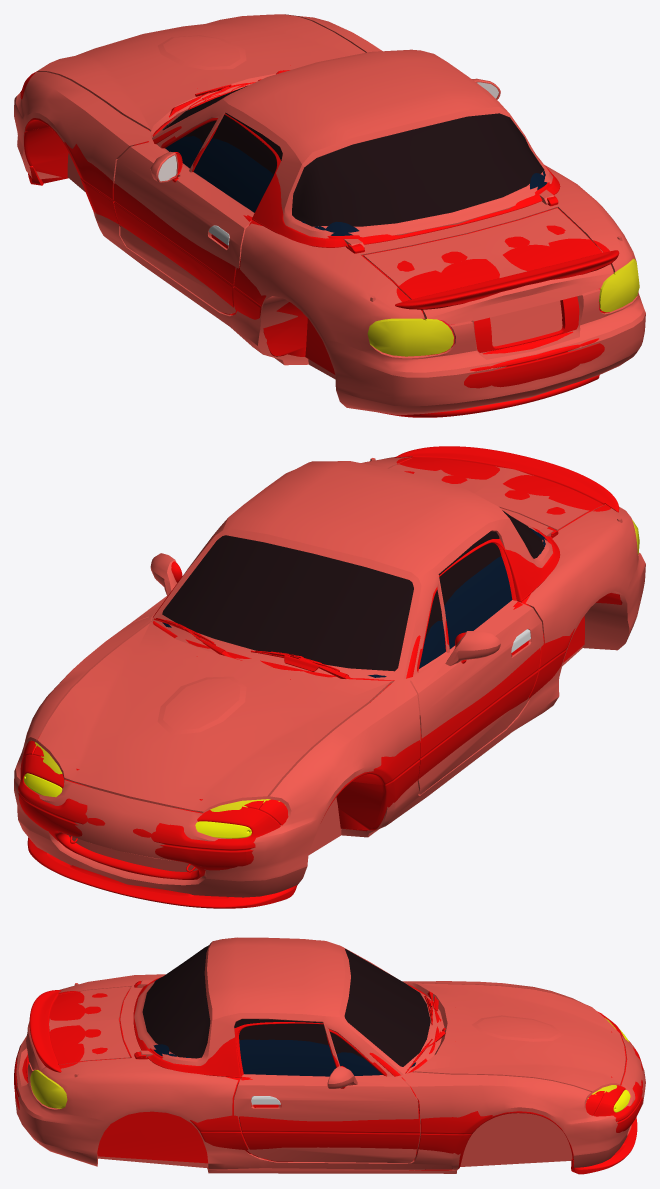
Rendered from nb_render.glb.
3 renders of one model, top to bottom at view 1: azimuth 30°, elevation 25°; view 2: azimuth 150°, elevation 25°; view 3: azimuth 270°, elevation 25°, orthographic. The views are drawn at different scales.
Parts seen in each view (by area): view 1: Node1, Obj0, Windows; view 2: Node1, Obj0, Windows, RunningLights; view 3: Node1, Obj0, Windows.
Boxes of the visible parts, left/top/right/bottom form: Node1: left=14, top=14, right=645, bottom=415; Obj0: left=20, top=65, right=619, bottom=417; Windows: left=162, top=123, right=547, bottom=235; Node1: left=14, top=456, right=645, bottom=897; Obj0: left=18, top=446, right=622, bottom=908; Windows: left=162, top=528, right=546, bottom=677; RunningLights: left=23, top=773, right=251, bottom=838; Node1: left=15, top=937, right=645, bottom=1173; Obj0: left=14, top=977, right=642, bottom=1174; Windows: left=153, top=977, right=415, bottom=1076.
Size of the model in its own units: 76.07 by 46.78 by 161.
